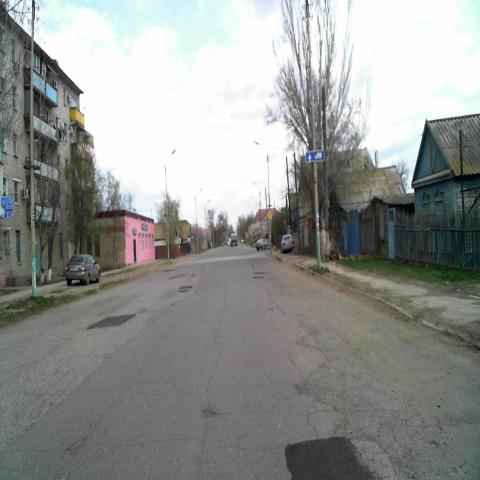6_15_1: (306, 150, 324, 164)
